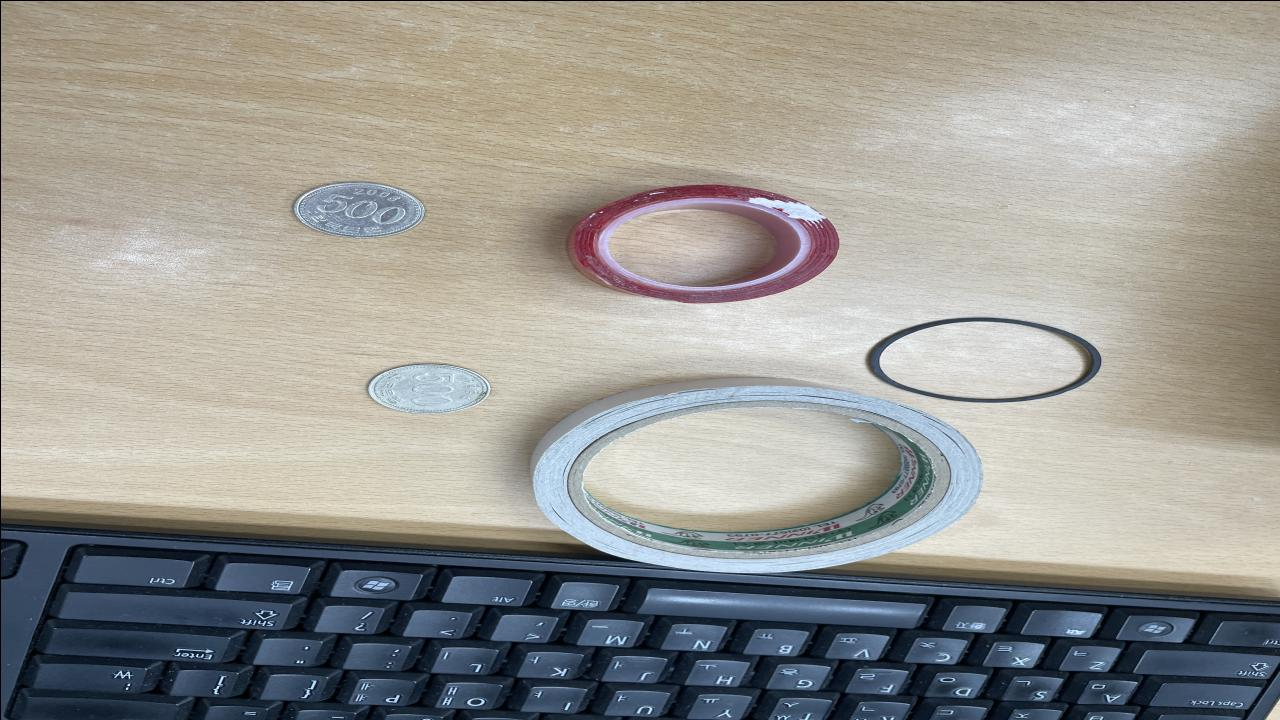coin: (294, 182, 426, 237), (362, 360, 492, 414)
